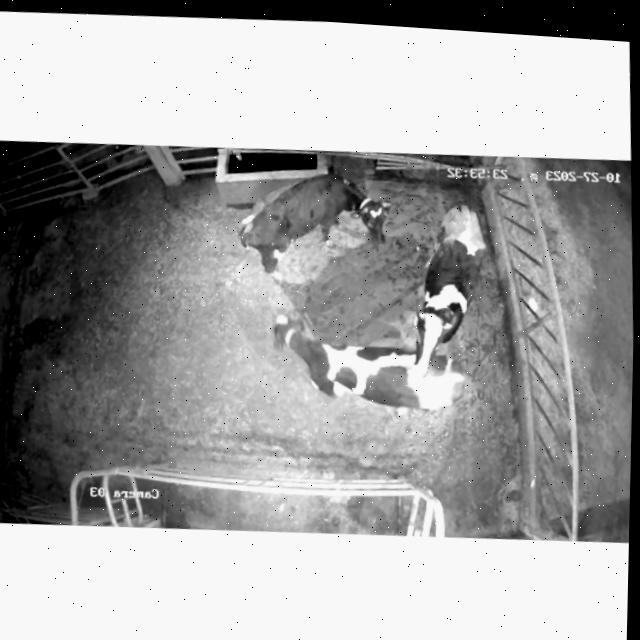propping: (392, 307, 458, 393)
